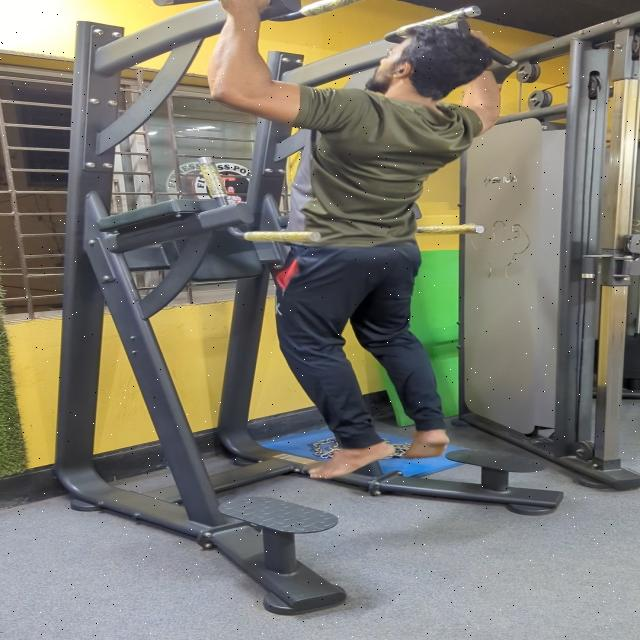Normal_PullUps: (200, 0, 520, 508)
